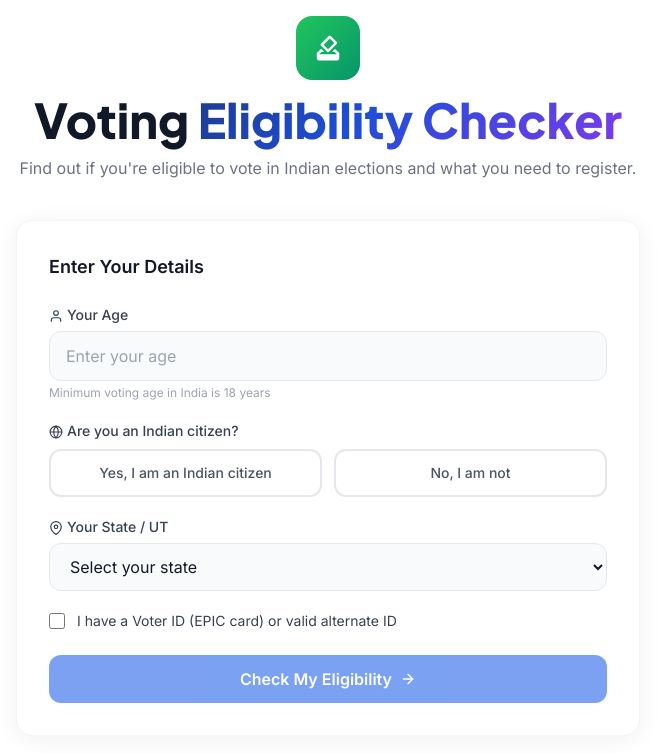
Test: Eligibility page › keeps the submit action disabled until required fields are complete
Expected: the button with aria-label "Check voting eligibility" is disabled, x1=49 y1=655 x2=607 y2=703
Type "22" into the number field labelled "Your Age".
click(328, 356); type("22")  # box x1=49 y1=331 x2=607 y2=381
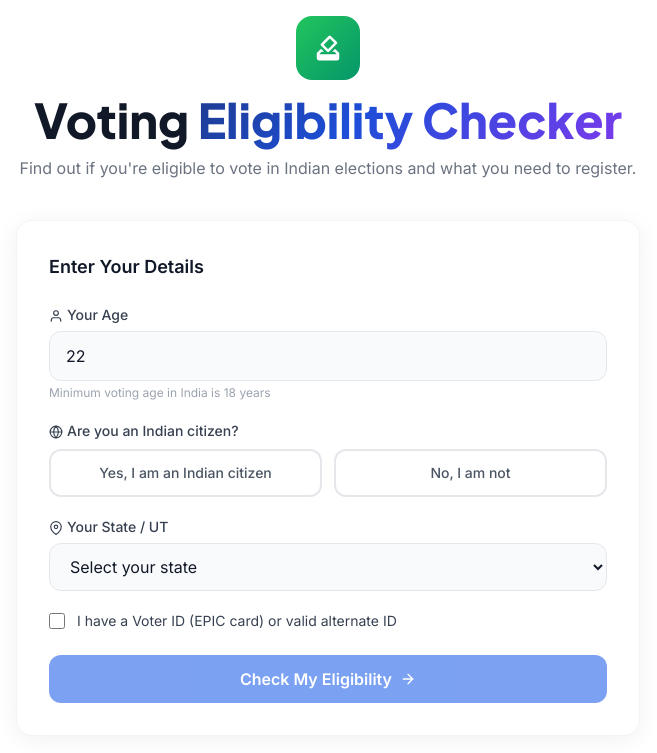
Click the radio button labelled "Yes, I am an Indian citizen".
click(186, 473)  # box x1=49 y1=449 x2=322 y2=497
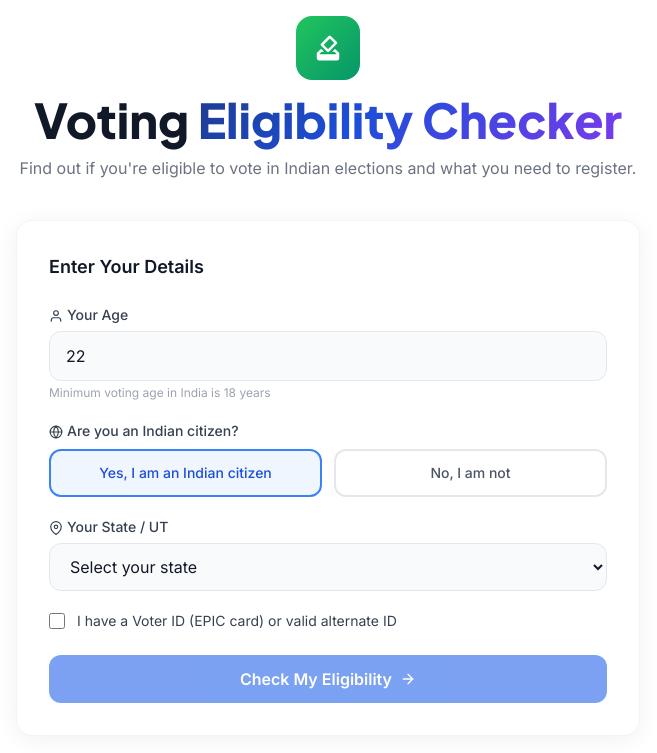
Select "Maharashtra" in the dropdown named "Select your state or union territory" at (328, 567), box x1=49 y1=543 x2=607 y2=591
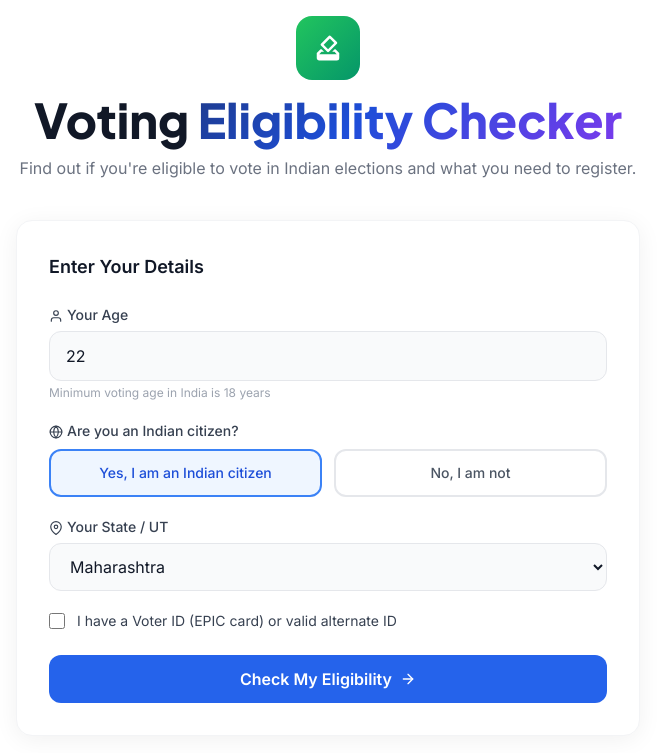
Result: the button with aria-label "Check voting eligibility" is enabled at x1=49 y1=655 x2=607 y2=703
